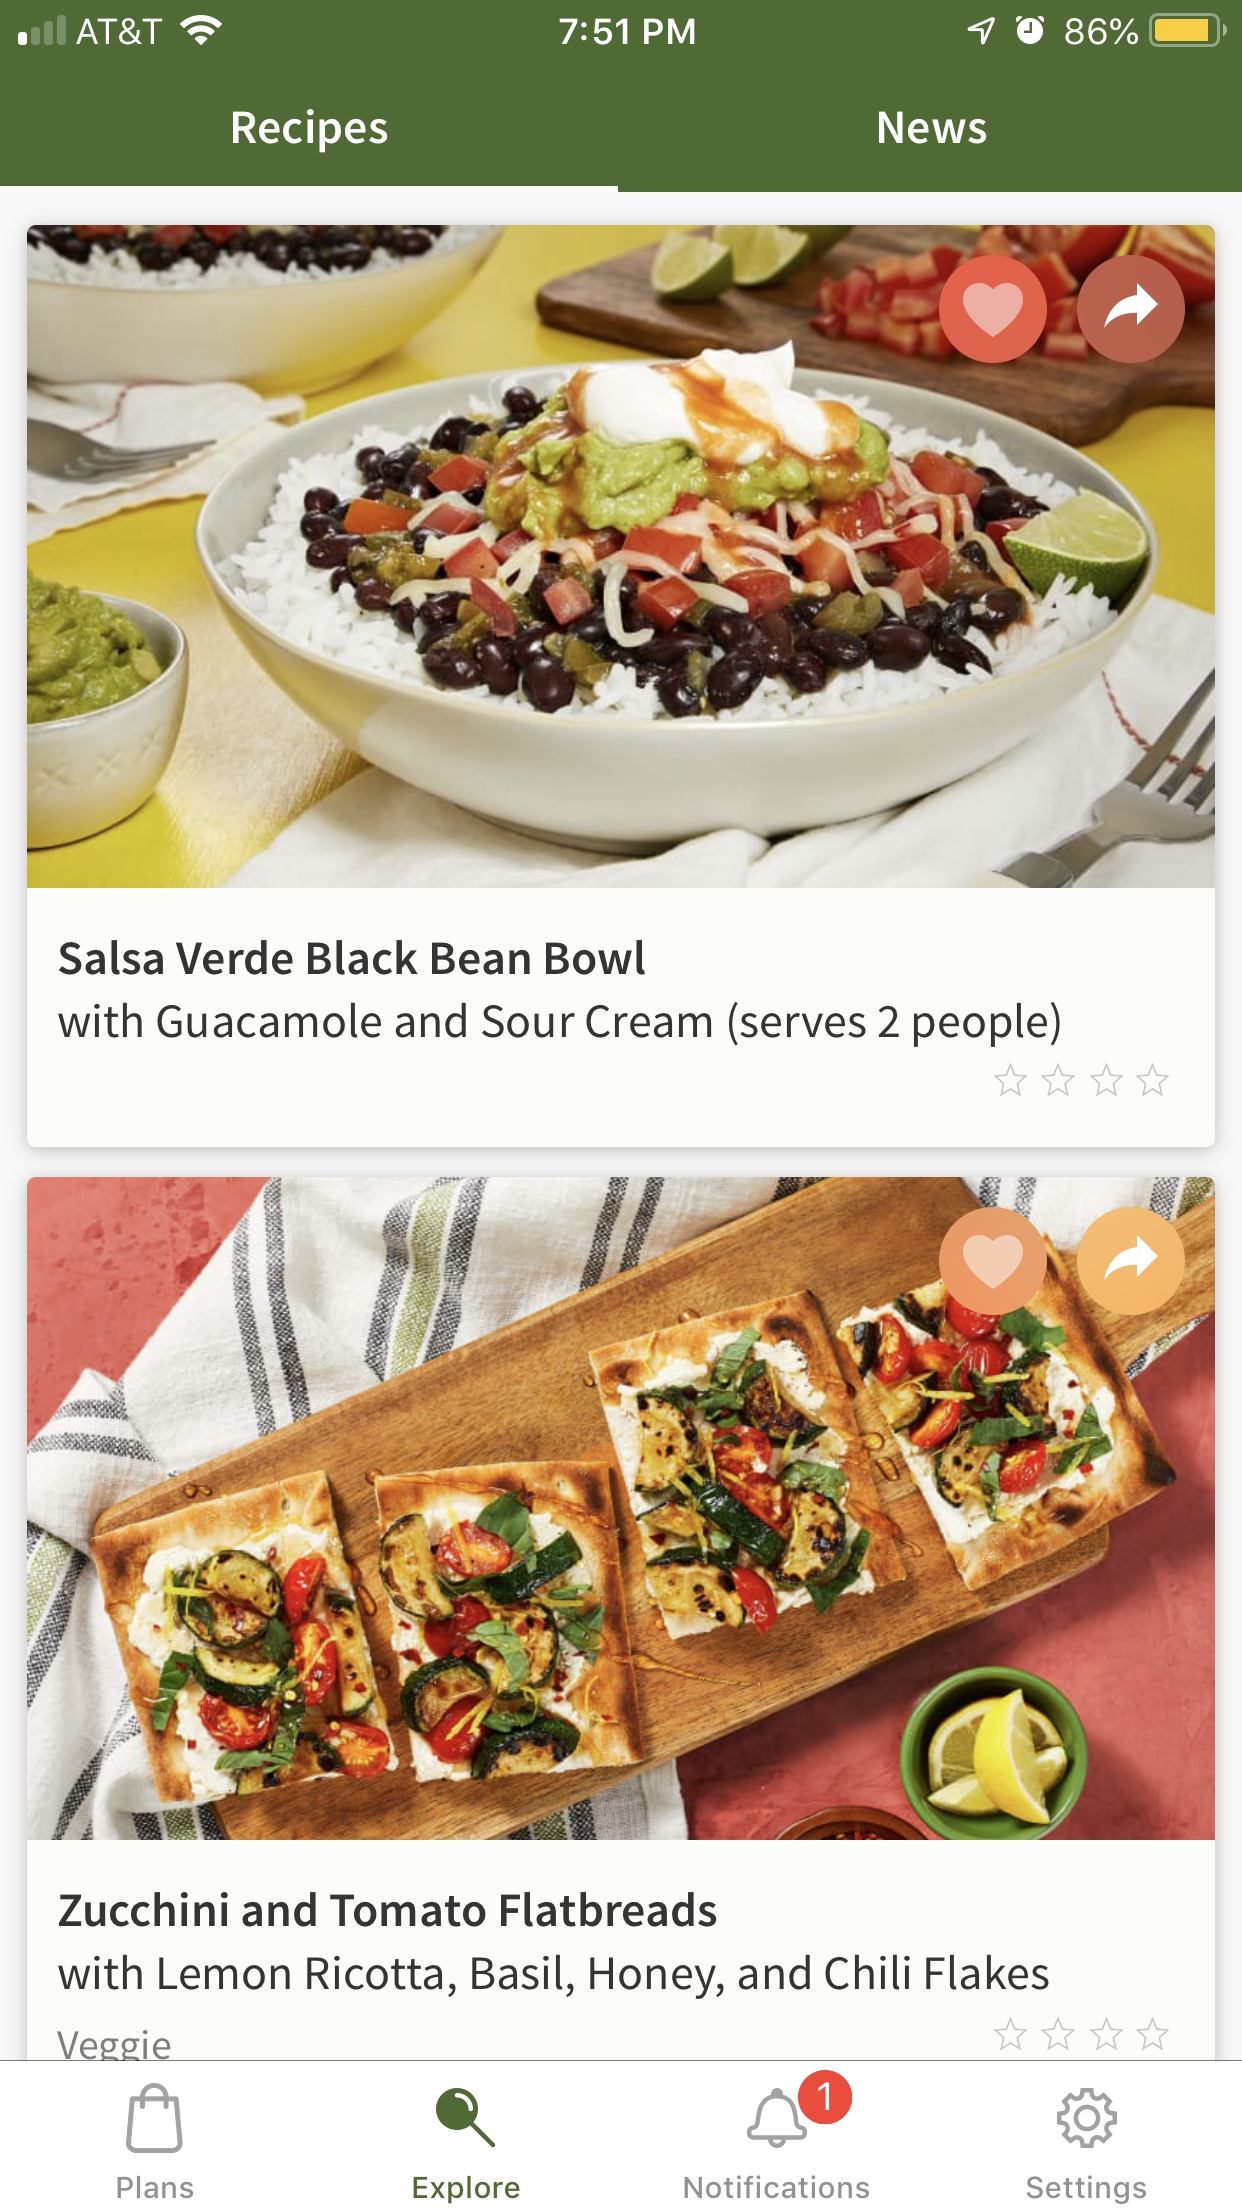Icon: (939, 1207, 1048, 1316), (1077, 1207, 1186, 1316), (1077, 256, 1186, 365), (939, 255, 1046, 365), (748, 2070, 852, 2149), (993, 2015, 1171, 2050), (993, 1063, 1171, 1098), (127, 2082, 185, 2153), (1057, 2088, 1118, 2149), (437, 2087, 496, 2147)
Image: (27, 1177, 1216, 1841), (27, 226, 1215, 889)
Text: (58, 1001, 1062, 1048), (58, 1955, 1049, 2000), (59, 1891, 717, 1927), (58, 940, 646, 977), (234, 109, 390, 155), (684, 2175, 870, 2199), (878, 111, 987, 146), (1027, 2175, 1146, 2205), (58, 2029, 168, 2059), (412, 2175, 522, 2203), (118, 2175, 196, 2199)
UpperTaskBar: (2, 2, 1242, 49)
